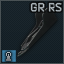M590 ghost ring rear sight: (0, 0, 64, 64)
